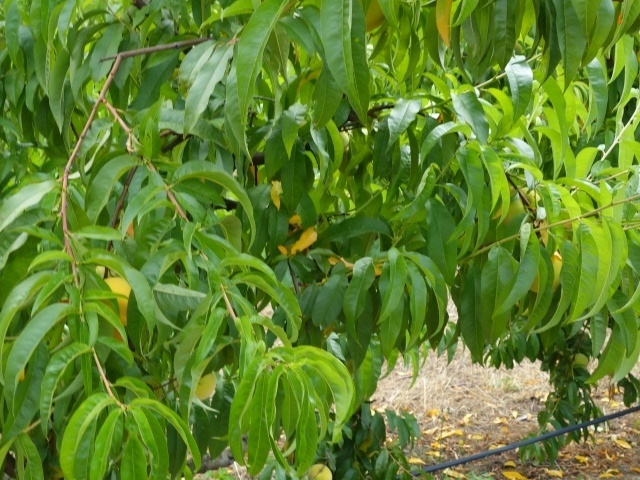peach: (302, 460, 337, 479)
